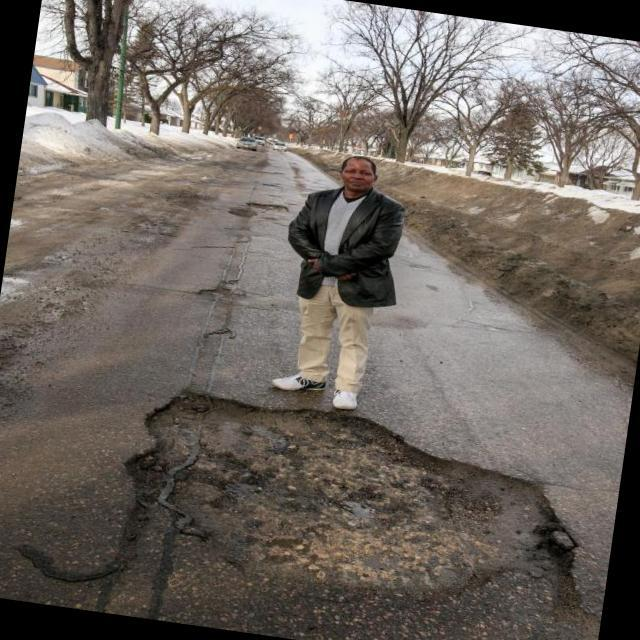Pothole: (126, 394, 575, 602)
